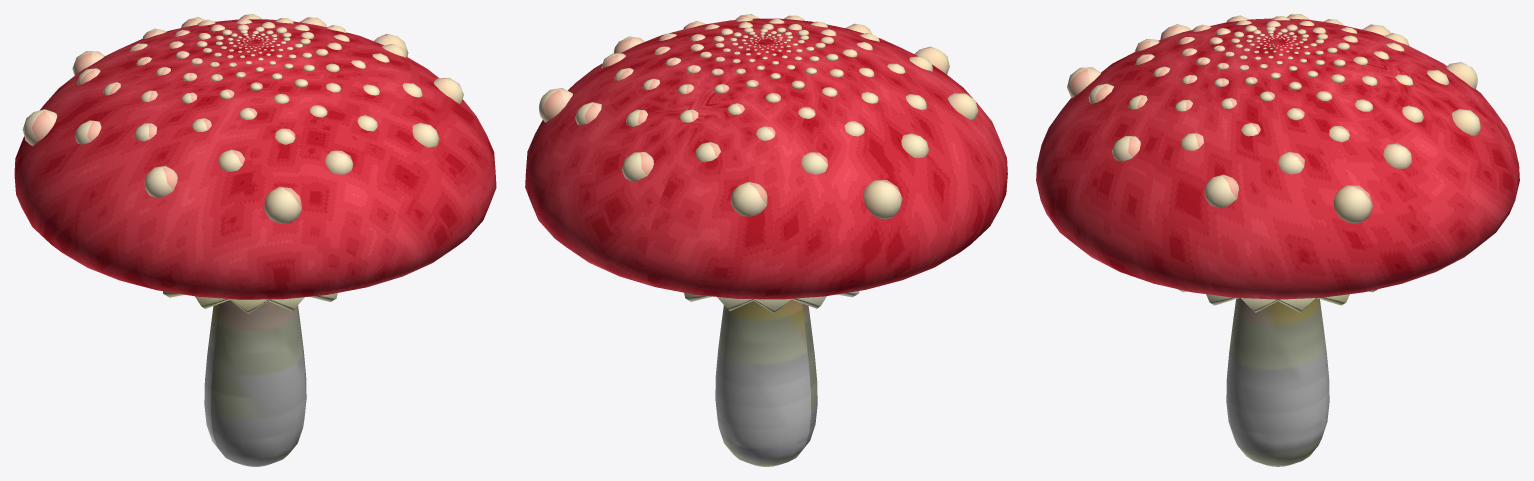
Rendered from muho.glb.
3 renders of one model, left to right at view 1: azimuth 30°, elevation 25°; view 2: azimuth 150°, elevation 25°; view 3: azimuth 270°, elevation 25°, orthographic.
Visible parts, largest first — view 1: BezierCurve.001, leg, Icosphere, BezierCurve.002; view 2: BezierCurve.001, leg, Icosphere, BezierCurve.002; view 3: BezierCurve.001, leg, Icosphere, BezierCurve.002.
Boxes of the visible parts, x1,y1,x2,y2 form: BezierCurve.001: (14,19,496,299); leg: (204,300,306,466); Icosphere: (22,14,463,223); BezierCurve.002: (163,291,337,313); BezierCurve.001: (525,18,1007,299); leg: (715,300,817,466); Icosphere: (539,14,978,218); BezierCurve.002: (684,291,859,313); BezierCurve.001: (1036,18,1519,299); leg: (1226,298,1329,466); Icosphere: (1067,14,1480,223); BezierCurve.002: (1178,289,1377,312).
Size of the model in its own units: 3.83 by 3.66 by 3.83.
5 materials, 5 textured.
